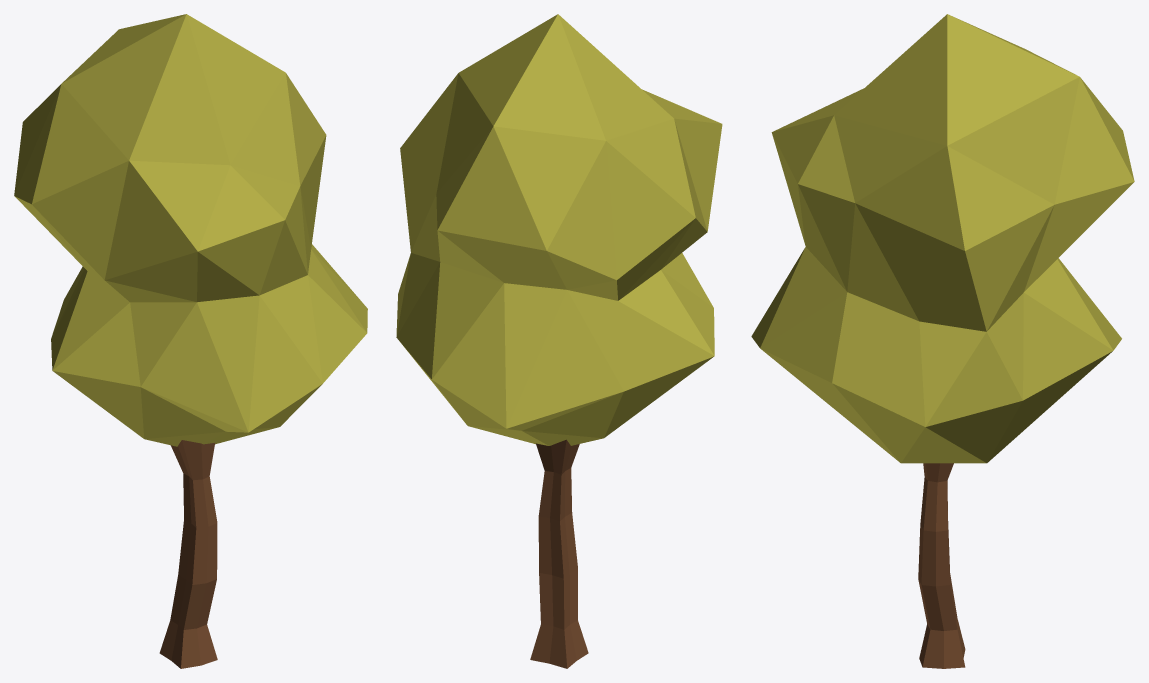
Rendered from Tree_42_Yellow.fbx.
The picture shows the model from 3 angles, left to right: view 1: azimuth 30°, elevation 25°; view 2: azimuth 150°, elevation 25°; view 3: azimuth 270°, elevation 25°; orthographic projection.
Visible parts, largest first — view 1: Tree_42_Yellow_Part_1, Tree_42_Yellow_Part_2; view 2: Tree_42_Yellow_Part_1, Tree_42_Yellow_Part_2; view 3: Tree_42_Yellow_Part_1, Tree_42_Yellow_Part_2.
Part boxes in pixels (x1,y1,x2,y2): Tree_42_Yellow_Part_1: (14,14,367,446); Tree_42_Yellow_Part_2: (159,440,217,668); Tree_42_Yellow_Part_1: (396,14,722,445); Tree_42_Yellow_Part_2: (530,439,588,668); Tree_42_Yellow_Part_1: (751,14,1134,463); Tree_42_Yellow_Part_2: (918,463,965,668).
Bounding box in the file's own units: 411 × 797 × 430.
